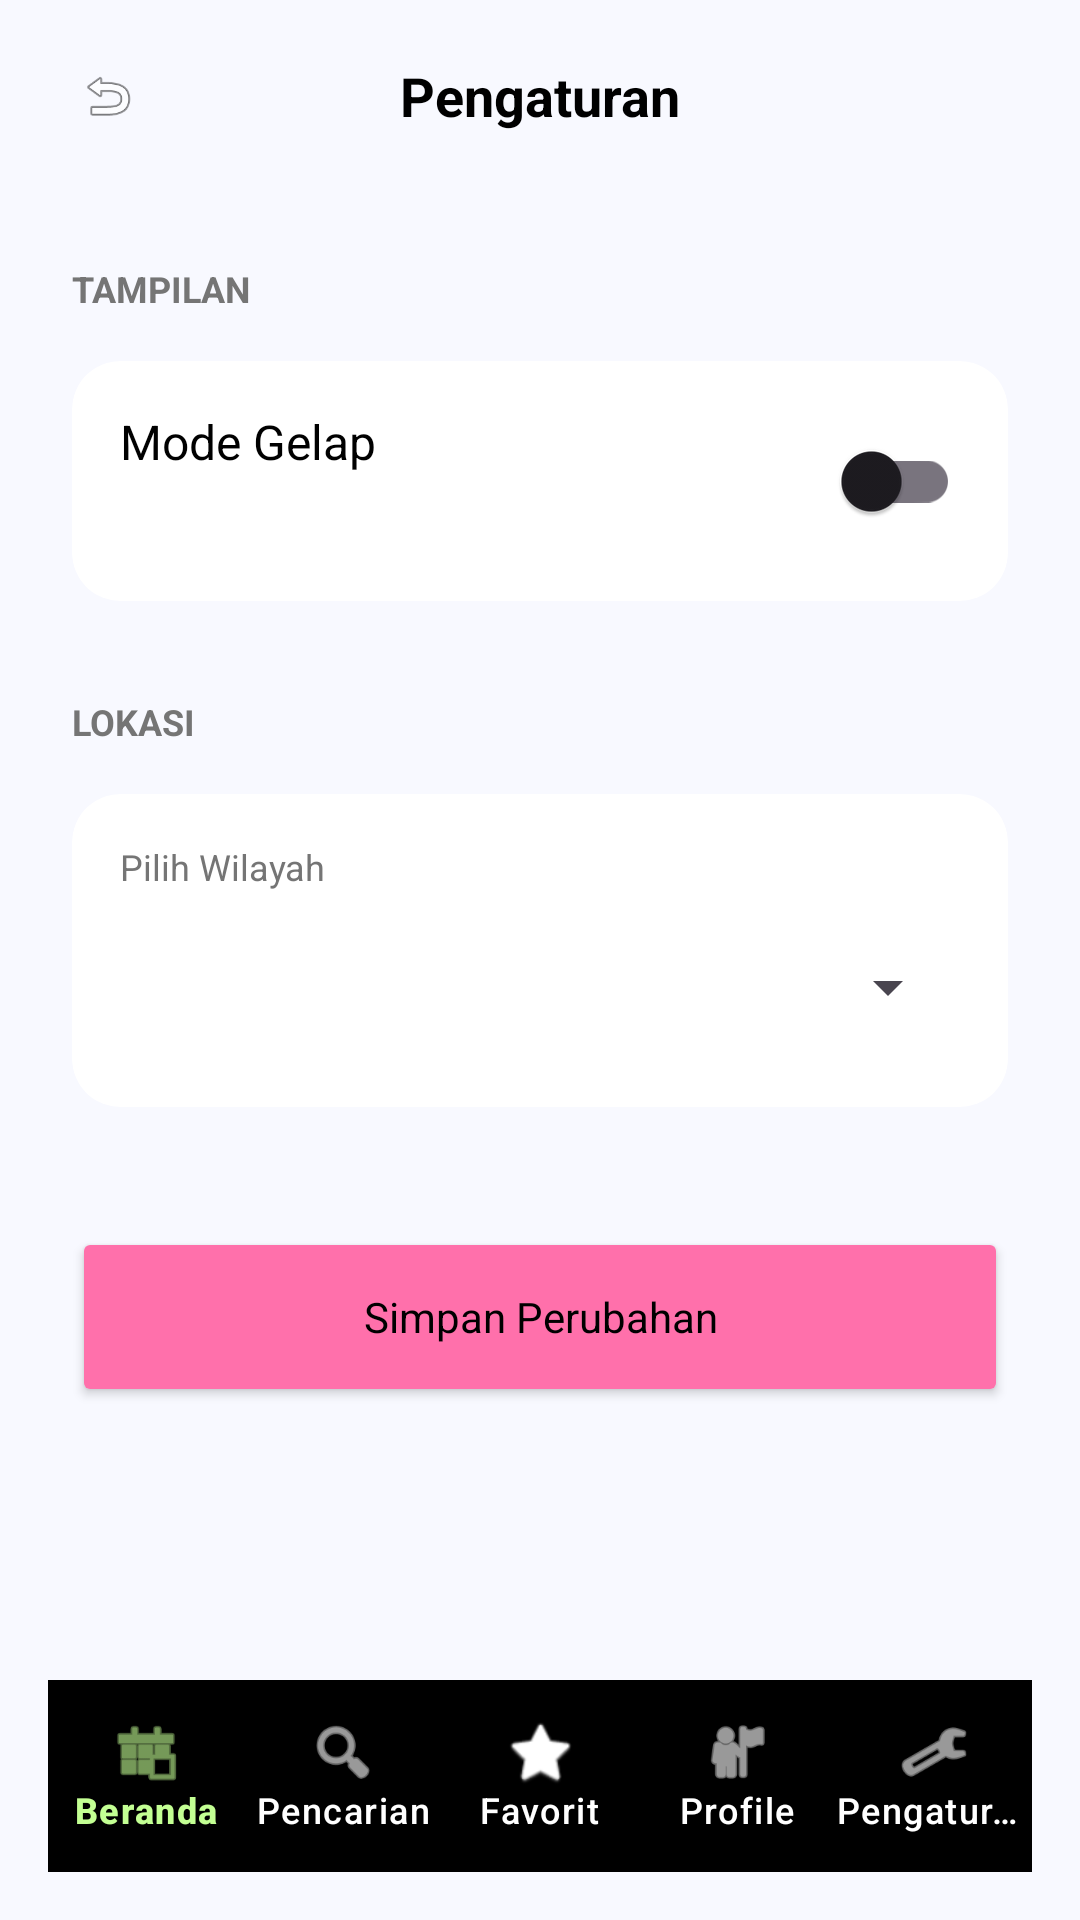

Where icons sit on this 1080*1920 app screen, as BBox(x1, y1, x2, y2):
revert: BBox(87, 77, 131, 116)
